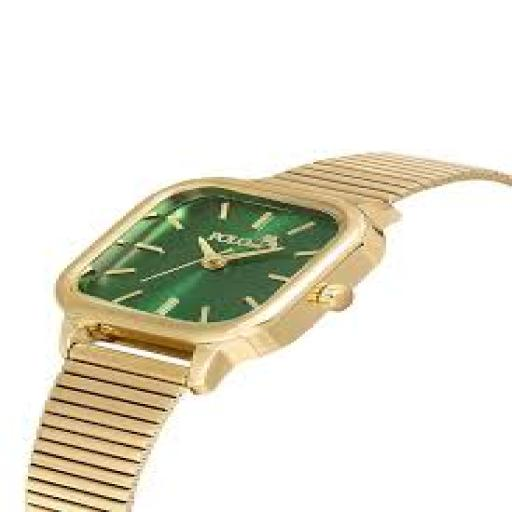KolSaati: (27, 121, 508, 512)
